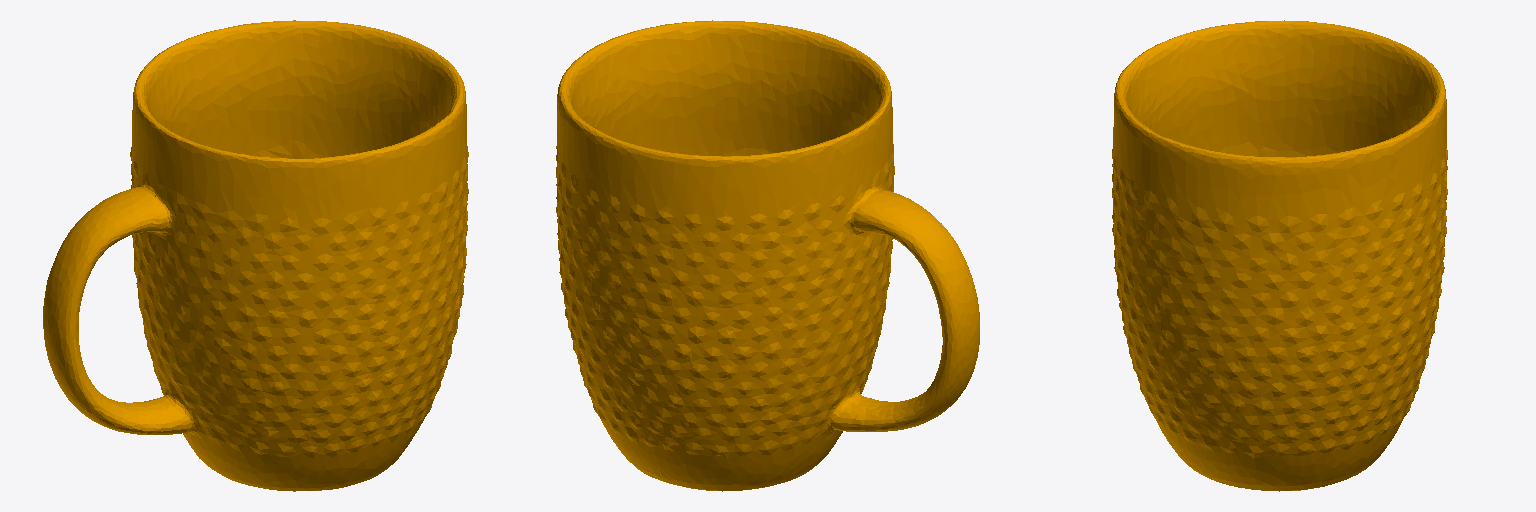
robot.urdf — 34gw8w1t:
<?xml version='1.0'?>

<robot name="34gw8w1t">
    <static>false</static>
    <link name="link">
        <inertial>
            <mass value="0.07696747701455449"/>
            <inertia ixx="9.482984418522595e-05" ixy="2.0546554573751425e-07" ixz="-1.5711081321071103e-07"
                     iyy="0.00010809349101334872" iyz="-3.81931466259722e-07" izz="8.978814093720088e-05"/>
        </inertial>
        <collision name="collision">
            <geometry>
                <mesh filename="package://miscnet/train/34gw8w1t/collision_model_vhacd.obj"/>
            </geometry>
        </collision>
        <visual name="visual">
            <geometry>
                <mesh filename="package://miscnet/train/34gw8w1t/visual_model.obj"/>
            </geometry>
        </visual>
    </link>
</robot>

--- What the picture shows (computed from the rendered views, not written in the file) ---
Views: 3 orthographic renders of the robot side by side, from view 1: azimuth 30°, elevation 25°; view 2: azimuth 150°, elevation 25°; view 3: azimuth 270°, elevation 25°.
Robot: 34gw8w1t — 1 links, 0 joints (none); root link link; default pose: every joint at zero.
Links seen in each view (by area): view 1: link; view 2: link; view 3: link.
Link boxes in pixels (bbox=[...]): link: bbox=[43, 20, 468, 491]; link: bbox=[556, 20, 979, 491]; link: bbox=[1112, 20, 1447, 491].
Size in the robot's own frame: 0.1046 by 0.0772 by 0.0917 metres.
Meshes: 1 distinct files referenced, 1 mesh visuals loaded (1 OBJ).
